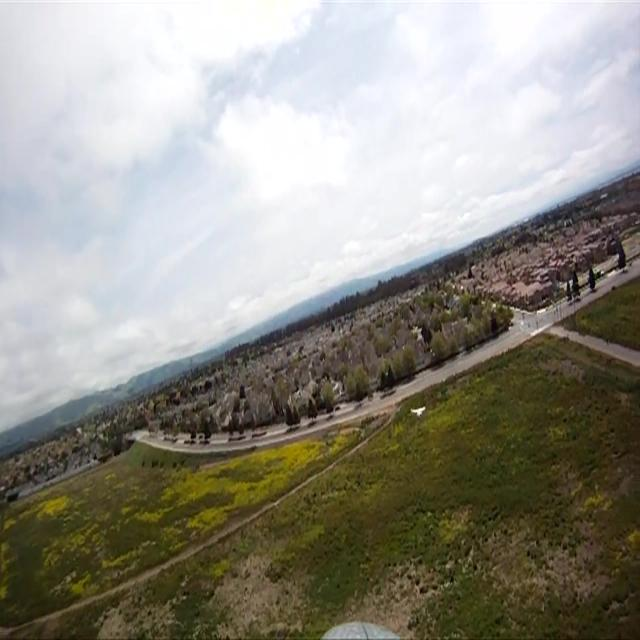iha: (411, 409, 426, 414)
